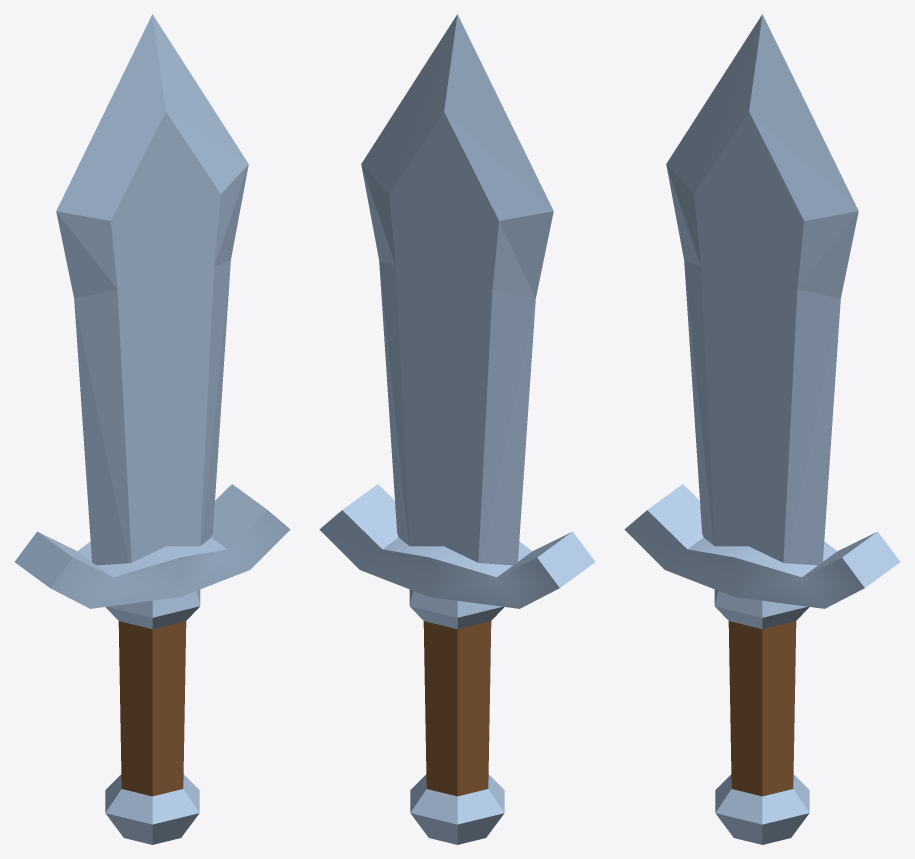
Rendered from sword.fbx.
3 renders of one model, left to right at view 1: azimuth 30°, elevation 25°; view 2: azimuth 150°, elevation 25°; view 3: azimuth 330°, elevation 25°, orthographic.
Visible parts, largest first — view 1: Weapon34.001; view 2: Weapon34.001; view 3: Weapon34.001.
Part boxes in pixels (x1,y1,x2,y2): Weapon34.001: (15,14,290,844); Weapon34.001: (319,14,594,844); Weapon34.001: (624,14,899,844).
Bounding box in the file's own units: 31.18 × 101 × 12.68.
